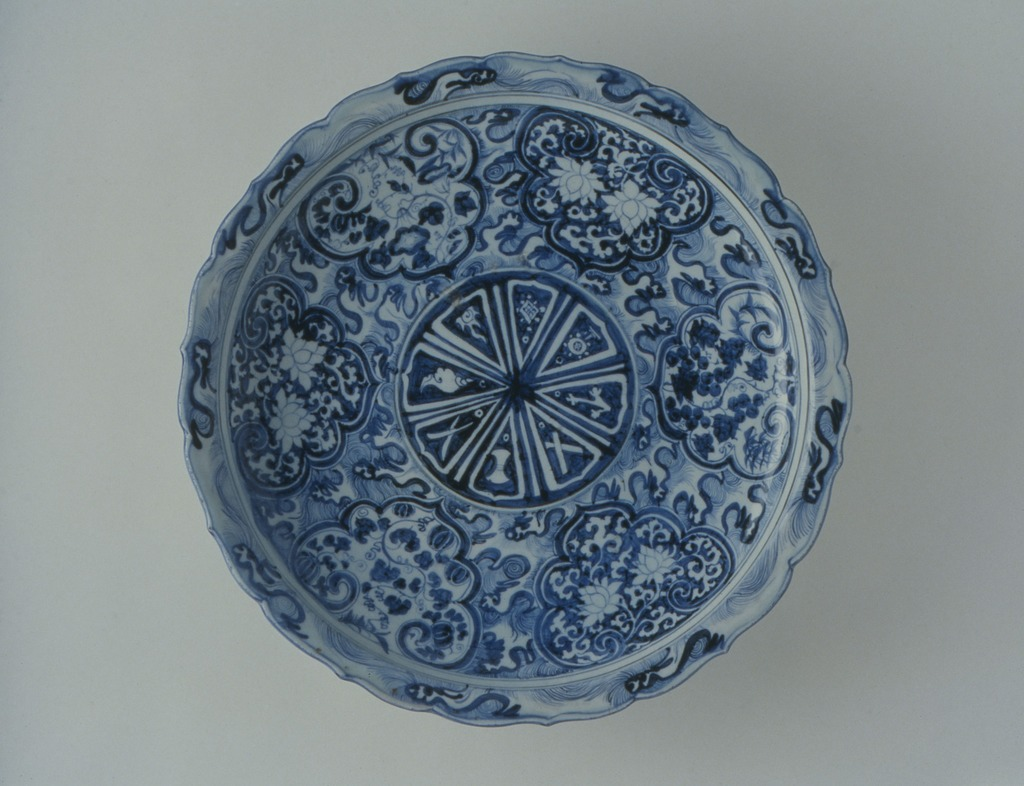plate: (158, 83, 881, 704)
